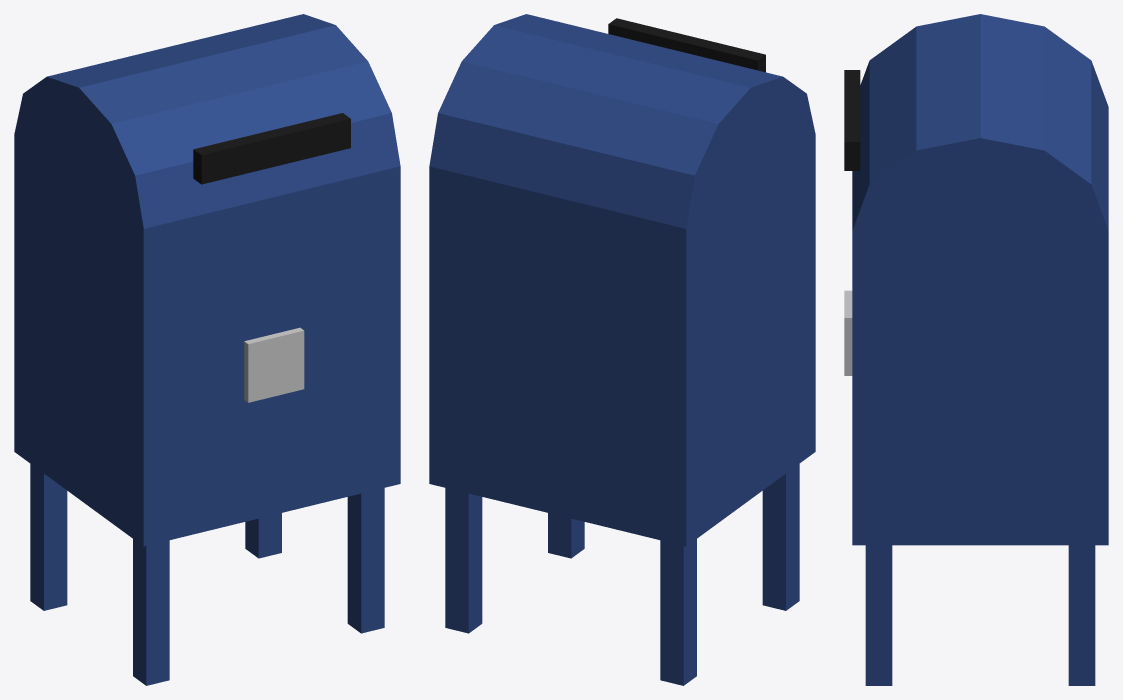
Rendered from objet_boite_lettres_bleue.glb.
The picture shows the model from 3 angles, left to right: view 1: azimuth 30°, elevation 25°; view 2: azimuth 150°, elevation 25°; view 3: azimuth 270°, elevation 25°; orthographic projection.
Parts seen in each view (by area): view 1: objet_boite_lettres_bleue; view 2: objet_boite_lettres_bleue; view 3: objet_boite_lettres_bleue.
Part boxes in pixels (<box>): objet_boite_lettres_bleue: <box>14,14,400,685</box>; objet_boite_lettres_bleue: <box>429,14,815,685</box>; objet_boite_lettres_bleue: <box>844,14,1108,685</box>.
Size of the model in its own units: 0.55 by 1.14 by 0.495.
